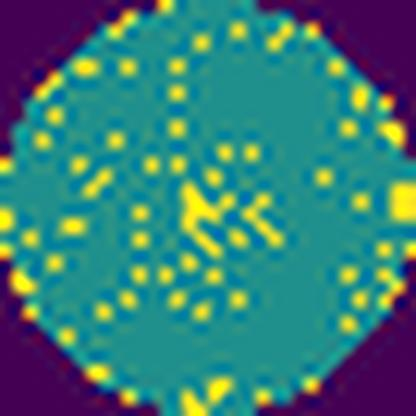Center: (179, 178, 239, 255)
